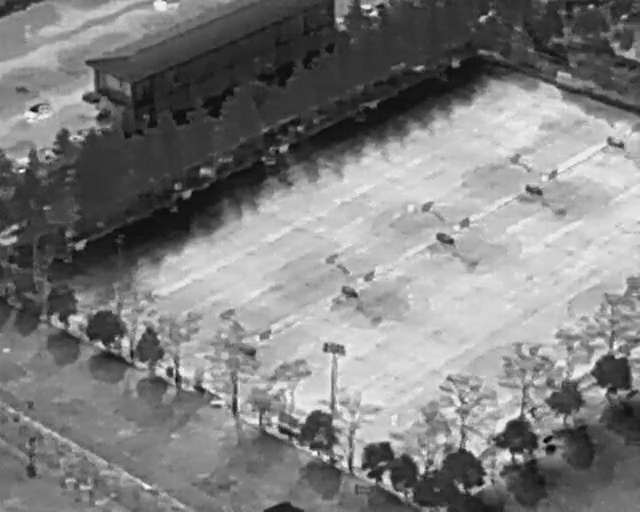Car: (22, 96, 53, 127)
Person: (406, 204, 415, 221), (390, 411, 398, 427)
